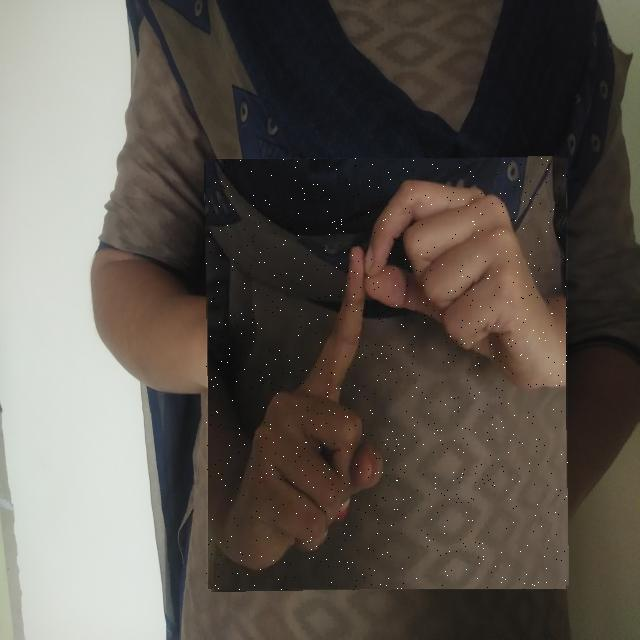P: (206, 158, 568, 590)
